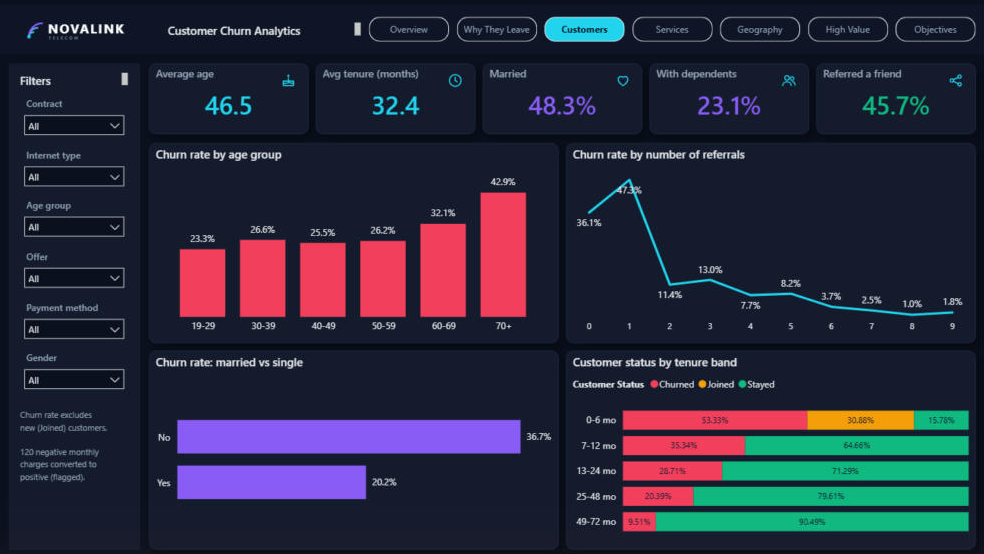

The page's visual inventory and layout, read from the dashboard file:
{"tool":"powerbi","page":{"name":"Customers","canvas":[1280,720],"ordinal":2},"visuals":[{"type":"textbox","box":[0,0,1280,64],"z":5500},{"type":"image","box":[14,8,196,48],"z":5600},{"type":"textbox","box":[214,18,260,32],"z":5700},{"type":"pageNavigator","box":[480,16,788,32],"z":5800},{"type":"textbox","box":[12,76,170,632],"z":5900},{"type":"textbox","box":[22,84,150,26],"z":6000},{"type":"slicer","fields":{"Values":["Customers.Contract"]},"box":[22,116,150,58],"z":6100},{"type":"slicer","fields":{"Values":["Customers.Internet Type"]},"box":[22,182,150,58],"z":6200},{"type":"slicer","fields":{"Values":["Customers.Age Group"]},"box":[22,248,150,58],"z":6300},{"type":"slicer","fields":{"Values":["Customers.Offer"]},"box":[22,314,150,58],"z":6400},{"type":"slicer","fields":{"Values":["Customers.Payment Method"]},"box":[22,380,150,58],"z":6500},{"type":"slicer","fields":{"Values":["Customers.Gender"]},"box":[22,446,150,58],"z":6600},{"type":"textbox","box":[22,520,150,180],"z":6700},{"type":"card","title":"Average age","fields":{"Values":["Metrics.Avg Age"]},"box":[194,76,207,92],"z":6800},{"type":"image","box":[361,84,30,30],"z":6900},{"type":"card","title":"Avg tenure (months)","fields":{"Values":["Metrics.Avg Tenure"]},"box":[411,76,207,92],"z":7000},{"type":"image","box":[578,84,30,30],"z":7100},{"type":"card","title":"Married","fields":{"Values":["Metrics.Married %"]},"box":[628,76,207,92],"z":7200},{"type":"image","box":[795,84,30,30],"z":7300},{"type":"card","title":"With dependents","fields":{"Values":["Metrics.Dependents %"]},"box":[844,76,207,92],"z":7400},{"type":"image","box":[1011,84,30,30],"z":7500},{"type":"card","title":"Referred a friend","fields":{"Values":["Metrics.Referral Rate"]},"box":[1061,76,207,92],"z":7600},{"type":"image","box":[1228,84,30,30],"z":7700},{"type":"clusteredColumnChart","title":"Churn rate by age group","fields":{"Category":["Customers.Age Group"],"Y":["Metrics.Churn Rate"]},"box":[194,180,532,260],"z":7800},{"type":"lineChart","title":"Churn rate by number of referrals","fields":{"Category":["Customers.Number of Referrals"],"Y":["Metrics.Churn Rate"]},"box":[736,180,532,260],"z":7900},{"type":"clusteredBarChart","title":"Churn rate: married vs single","fields":{"Category":["Customers.Married"],"Y":["Metrics.Churn Rate"]},"box":[194,450,532,258],"z":8000},{"type":"hundredPercentStackedBarChart","title":"Customer status by tenure band","fields":{"Category":["Customers.Tenure Band"],"Series":["Customers.Customer Status"],"Y":["Metrics.Total Customers"]},"box":[736,450,532,258],"z":8100}]}

Visuals, with their boxes in screenshot pixels (x1, y1, x2, y2), scaled from the page's 1280x720 canvas onto the 984x554 screenshot:
textbox: 0/0/983/49
image: 11/6/161/43
textbox: 165/14/364/38
pageNavigator: 369/12/975/37
textbox: 9/58/140/545
textbox: 17/65/132/85
slicer - Customers.Contract: 17/89/132/134
slicer - Customers.Internet Type: 17/140/132/185
slicer - Customers.Age Group: 17/191/132/235
slicer - Customers.Offer: 17/242/132/286
slicer - Customers.Payment Method: 17/292/132/337
slicer - Customers.Gender: 17/343/132/388
textbox: 17/400/132/539
"Average age" card: 149/58/308/129
image: 278/65/301/88
"Avg tenure (months)" card: 316/58/475/129
image: 444/65/467/88
"Married" card: 483/58/642/129
image: 611/65/634/88
"With dependents" card: 649/58/808/129
image: 777/65/800/88
"Referred a friend" card: 816/58/975/129
image: 944/65/967/88
"Churn rate by age group" clusteredColumnChart: 149/138/558/339
"Churn rate by number of referrals" lineChart: 566/138/975/339
"Churn rate: married vs single" clusteredBarChart: 149/346/558/545
"Customer status by tenure band" hundredPercentStackedBarChart: 566/346/975/545
